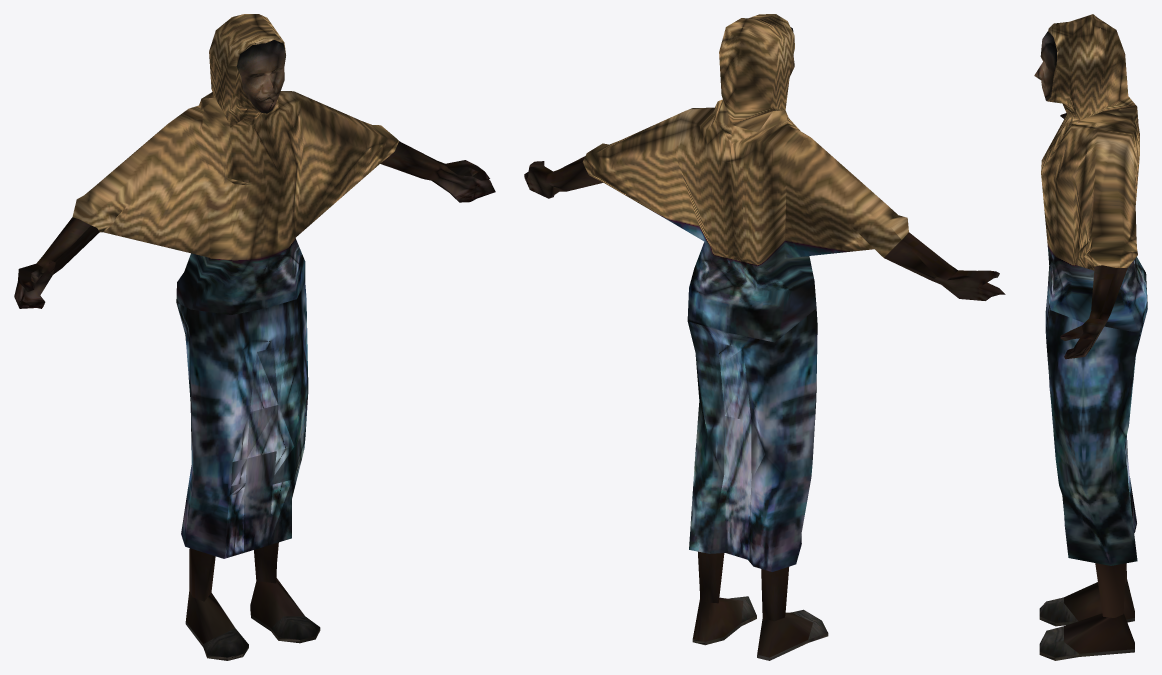
File: CSomalF1.glb
3 renders of one model, left to right at view 1: azimuth 30°, elevation 25°; view 2: azimuth 150°, elevation 25°; view 3: azimuth 270°, elevation 25°, orthographic.
Parts seen in each view (by area): view 1: _CSomalF1; view 2: _CSomalF1; view 3: _CSomalF1.
Boxes of the visible parts, x1=… form: _CSomalF1: x1=14, y1=14, x2=495, y2=660; _CSomalF1: x1=524, y1=14, x2=1005, y2=660; _CSomalF1: x1=1034, y1=14, x2=1147, y2=660.
Size of the model in its own units: 1.6 by 1.99 by 0.3327.
2 materials, 2 textured.
